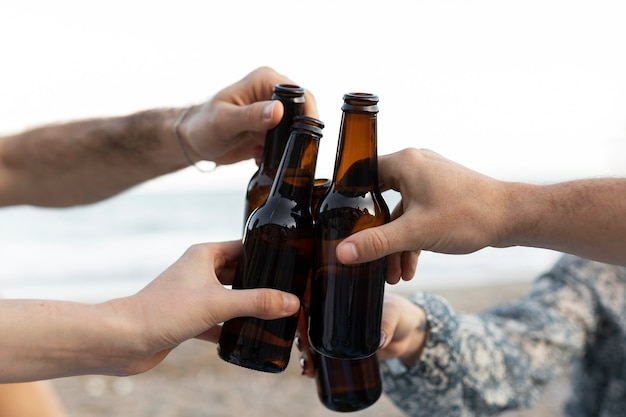alcohol: (215, 117, 324, 371), (308, 91, 393, 357), (304, 179, 381, 412), (245, 81, 317, 257)
